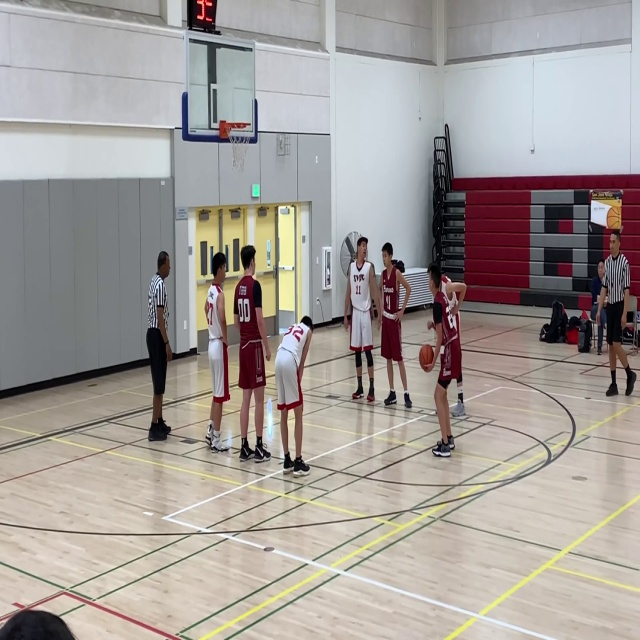Basketball: (419, 344, 435, 372)
